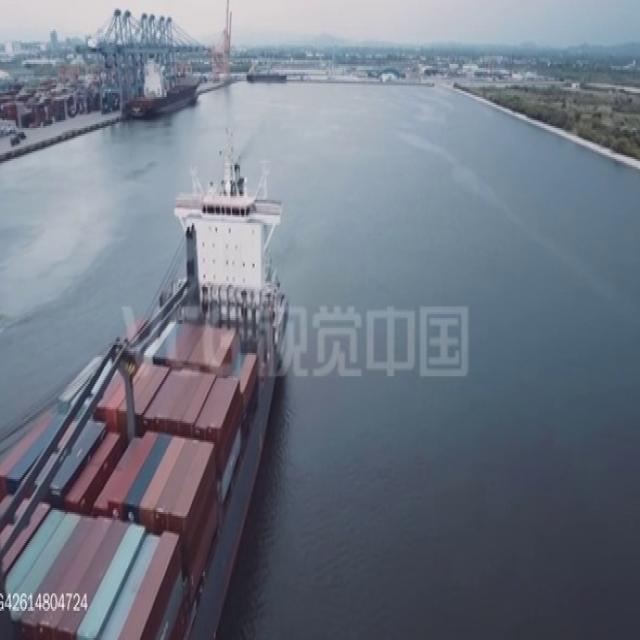cargoship: (0, 149, 272, 639)
